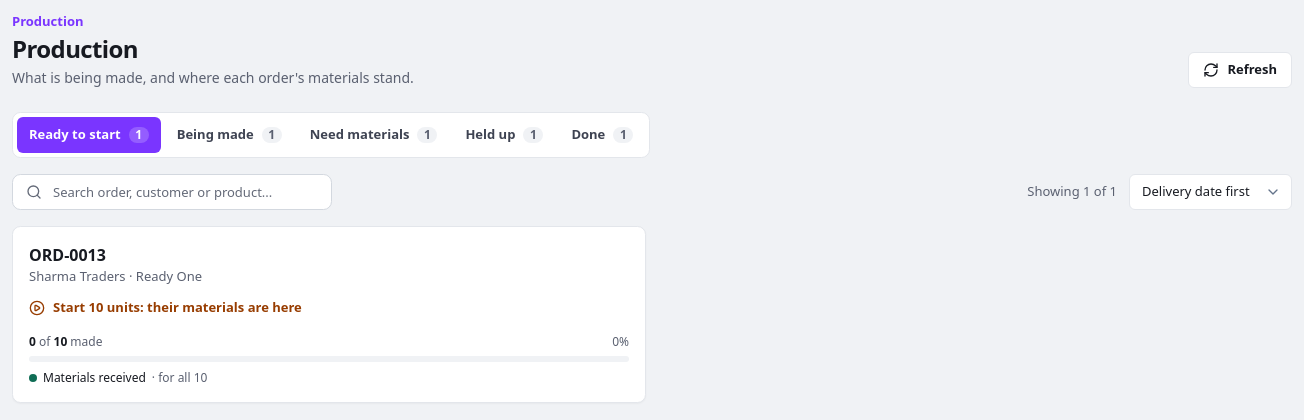
Test: Production page › someone who only looks sees the cards without buttons
Check: the text "Sharma Traders · Ready One" is shown, box [29,266,202,286]
Click the button "Being made 1": [229, 134] box [165,116,294,152]
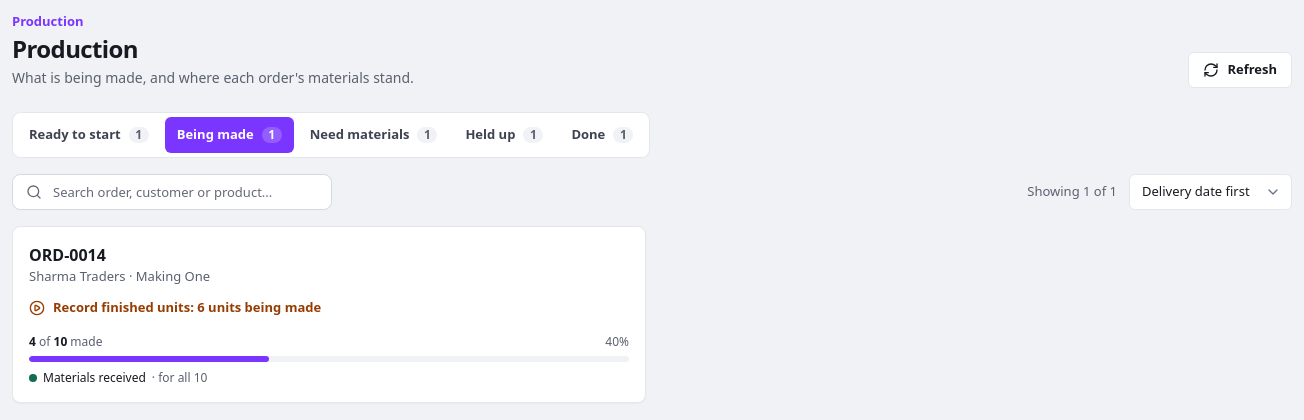
Check: the text "Sharma Traders · Making One" is shown, box [29,266,210,286]
